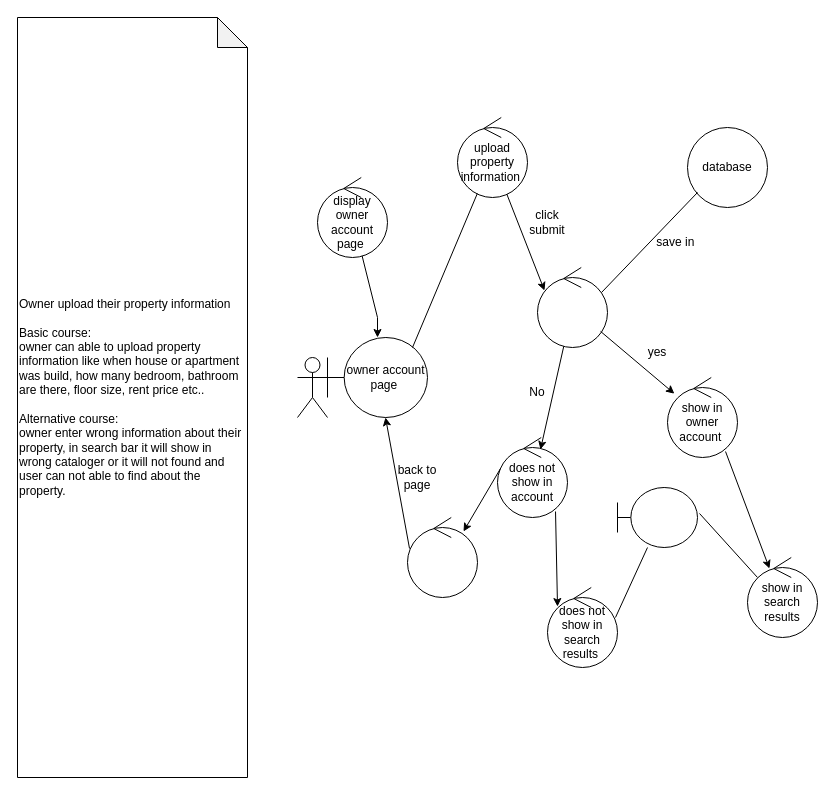
Some shapes in this 835 by 795 pixel diagram are drawn without their labels. The shapes that lost their labels are listed below. From the top down, each one's centre as x and y in pixels, then its label:
the point at 572,307: does property information save
the point at 312,387: owner
the point at 657,517: search results
the point at 442,557: invalid message show
